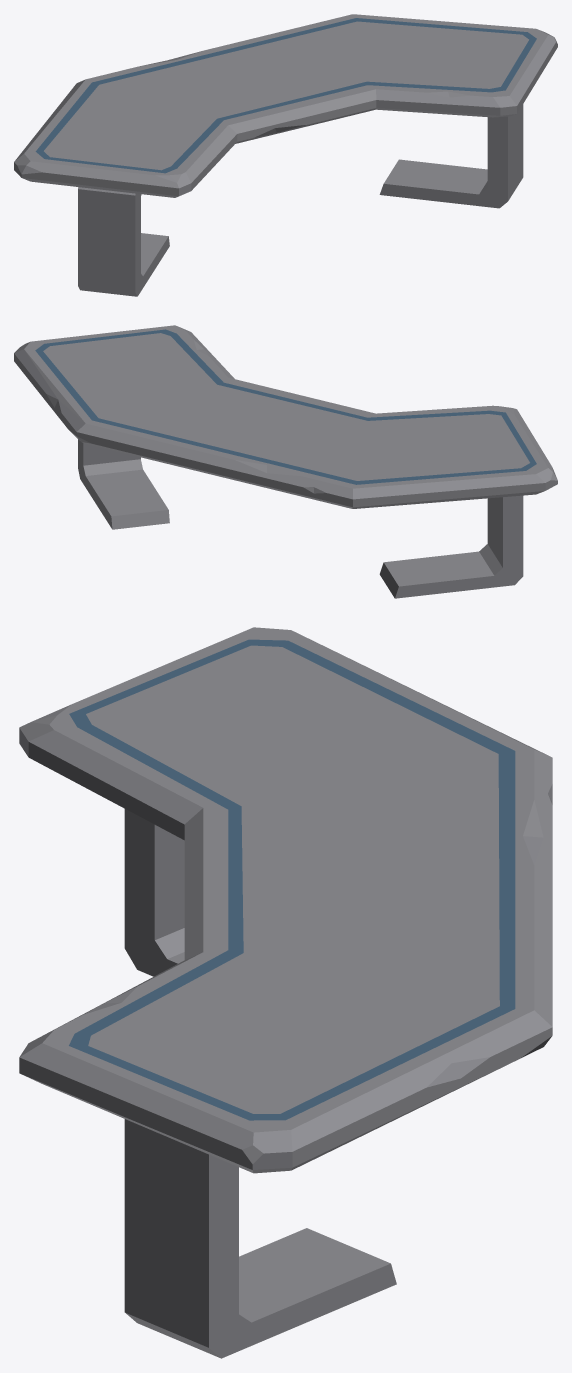
File: SM_Prop_Table_01.fbx
3 views of the same model, one above another, from view 1: azimuth 30°, elevation 25°; view 2: azimuth 150°, elevation 25°; view 3: azimuth 270°, elevation 25° (orthographic). The views are drawn at different scales.
Visible parts, largest first — view 1: SM_Prop_Table_01_LOD0; view 2: SM_Prop_Table_01_LOD0; view 3: SM_Prop_Table_01_LOD0.
Boxes of the visible parts, box(x1,y1,x2,y2) form: SM_Prop_Table_01_LOD0: box(14, 14, 557, 296); SM_Prop_Table_01_LOD0: box(14, 325, 557, 598); SM_Prop_Table_01_LOD0: box(19, 627, 552, 1358).
Bounding box in the file's own units: 154 × 357 × 84.76.
Materials: 1 (1 with a texture image).
